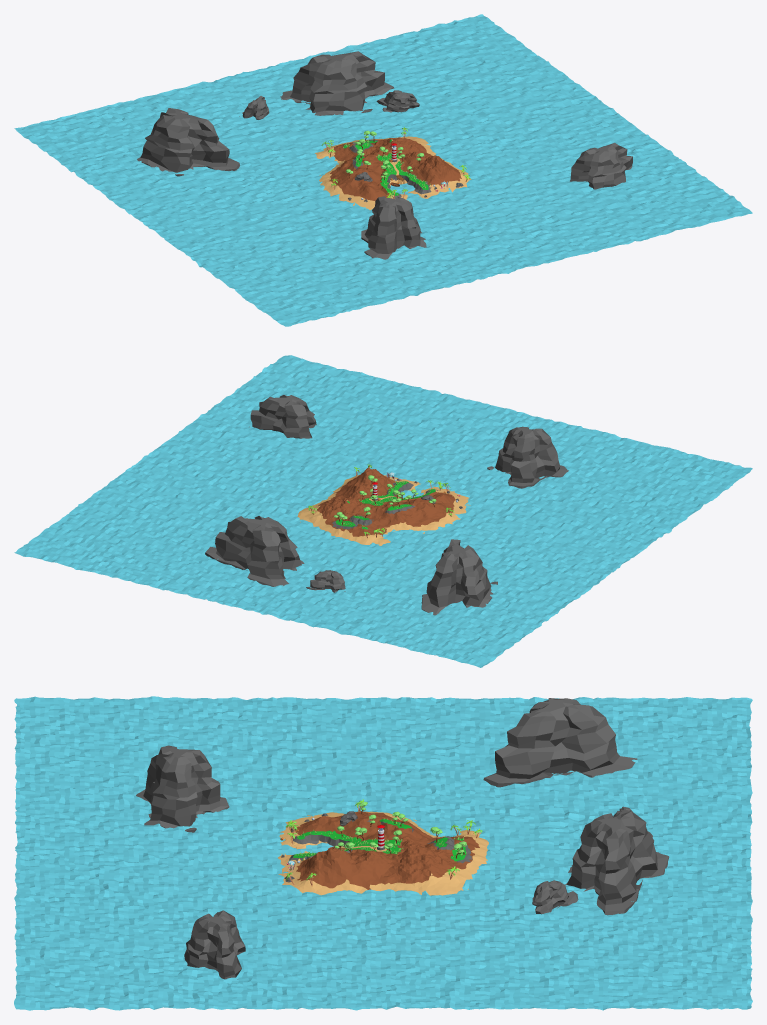
Rendered from island.fbx.
The picture shows the model from 3 angles, top to bottom: view 1: azimuth 30°, elevation 25°; view 2: azimuth 150°, elevation 25°; view 3: azimuth 270°, elevation 25°; orthographic projection. The views are drawn at different scales.
Visible parts, largest first — view 1: Grid, Landscape, Plane.003, Plane.004, Plane.002, Plane.005, Plane.006; view 2: Grid, Landscape, Plane.003, Plane.004, Plane.002, Plane.005, Plane.007; view 3: Grid, Landscape, Plane.004, Plane.003, Plane.002, Plane.005, Plane.006.
Part boxes in pixels (left/top/right/bottom): Grid: left=14, top=14, right=752, bottom=326; Landscape: left=315, top=136, right=471, bottom=210; Plane.003: left=280, top=51, right=394, bottom=115; Plane.004: left=137, top=108, right=239, bottom=176; Plane.002: left=361, top=196, right=426, bottom=259; Plane.005: left=570, top=143, right=632, bottom=189; Plane.006: left=376, top=90, right=419, bottom=112; Grid: left=14, top=355, right=752, bottom=667; Landscape: left=297, top=467, right=470, bottom=545; Plane.003: left=205, top=515, right=304, bottom=586; Plane.004: left=421, top=539, right=497, bottom=615; Plane.002: left=487, top=426, right=568, bottom=488; Plane.005: left=249, top=395, right=316, bottom=438; Plane.007: left=306, top=570, right=345, bottom=592; Grid: left=14, top=696, right=752, bottom=1010; Landscape: left=278, top=811, right=488, bottom=895; Plane.004: left=483, top=698, right=637, bottom=787; Plane.003: left=561, top=811, right=669, bottom=915; Plane.002: left=136, top=745, right=229, bottom=832; Plane.005: left=184, top=910, right=245, bottom=979; Plane.006: left=532, top=880, right=578, bottom=914.
Bounding box in the file's own units: 1547 × 175 × 1548.
